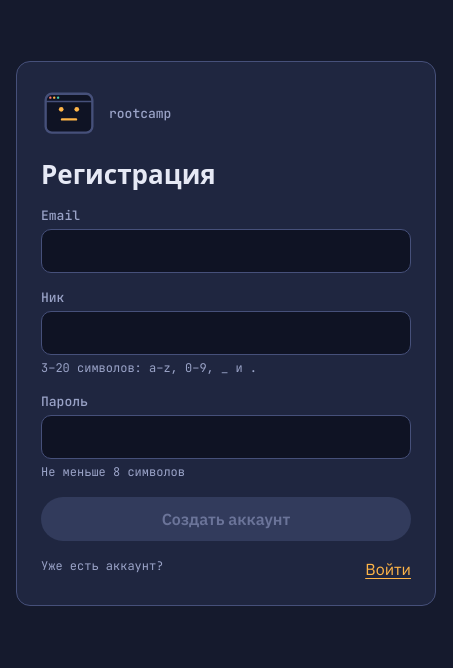
Test: Register › names a long 429 wait in minutes
Type "neo@example.com" into the field labelled "Email" at (226, 250), box x1=41 y1=228 x2=411 y2=272
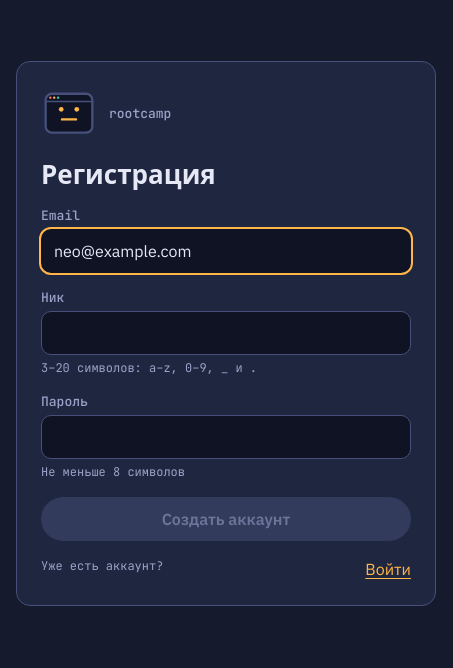
Type "neo" into the field labelled "Ник" at (226, 332), box x1=41 y1=310 x2=411 y2=354
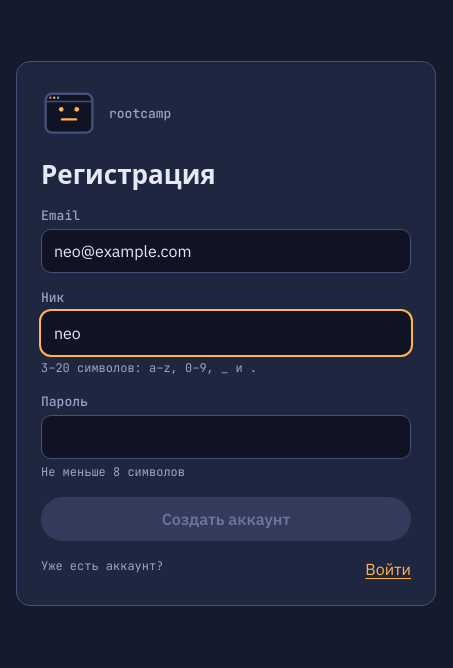
Type "correct-horse" into the password field labelled "Пароль" at (226, 436), box x1=41 y1=414 x2=411 y2=458
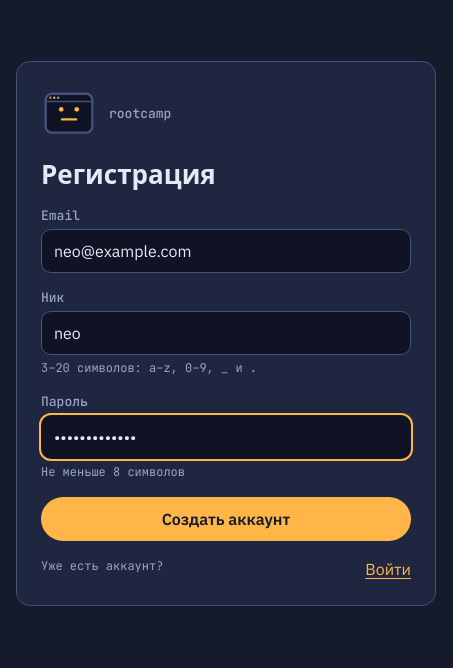
Click the button "Создать аккаунт" at (226, 518), box x1=41 y1=496 x2=411 y2=540
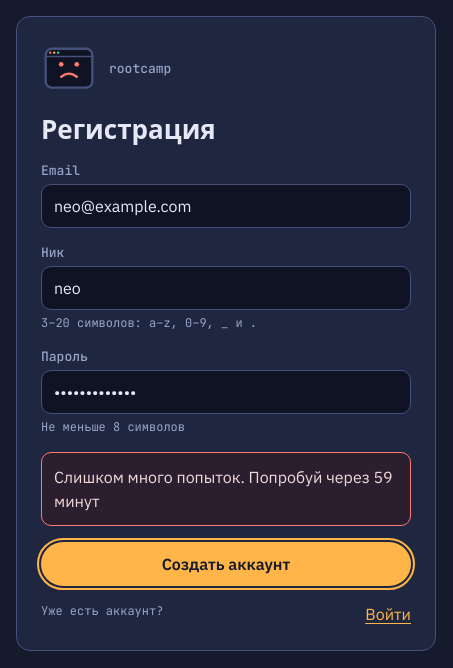
Expected: the message reads "Слишком много попыток. Попробуй через 59 минут", x1=54 y1=466 x2=393 y2=510
